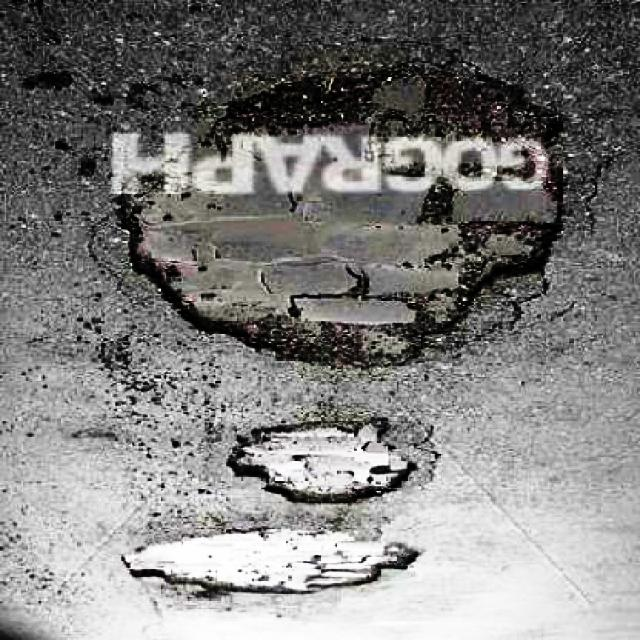pothole: (111, 44, 572, 370), (120, 528, 425, 595), (226, 411, 439, 506)
